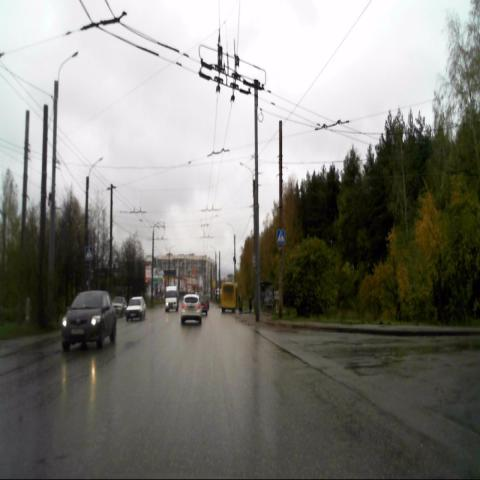5_19_1: (276, 228, 286, 246)
